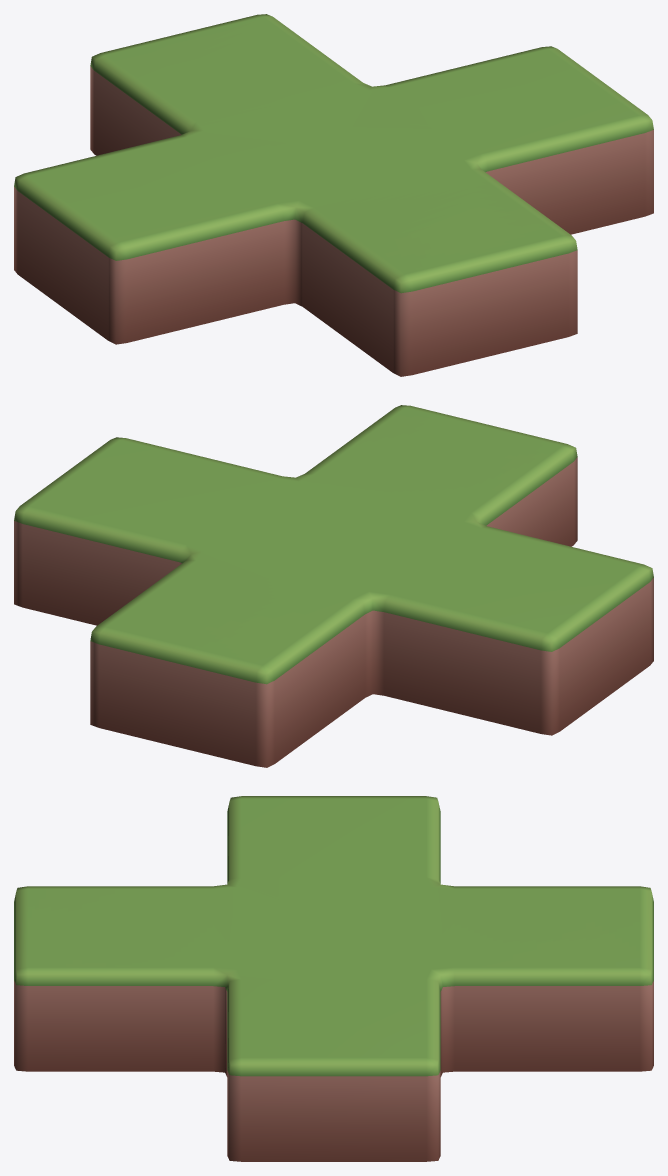
Rendered from Forest_Plus.fbx.
3 renders of one model, top to bottom at view 1: azimuth 30°, elevation 25°; view 2: azimuth 150°, elevation 25°; view 3: azimuth 270°, elevation 25°, orthographic. The views are drawn at different scales.
Visible parts, largest first — view 1: Plane.060; view 2: Plane.060; view 3: Plane.060.
Boxes of the visible parts, x1,y1,x2,y2 form: Plane.060: (14, 14, 653, 376); Plane.060: (14, 405, 653, 767); Plane.060: (14, 796, 653, 1161).
Size of the model in its own units: 343 by 58.15 by 343.
